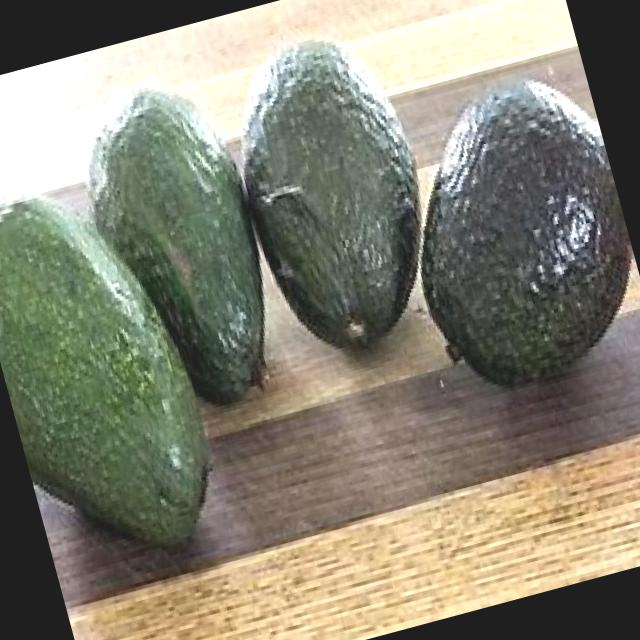avocado: (0, 162, 235, 584), (374, 60, 640, 419), (199, 19, 458, 367), (62, 72, 298, 428)
